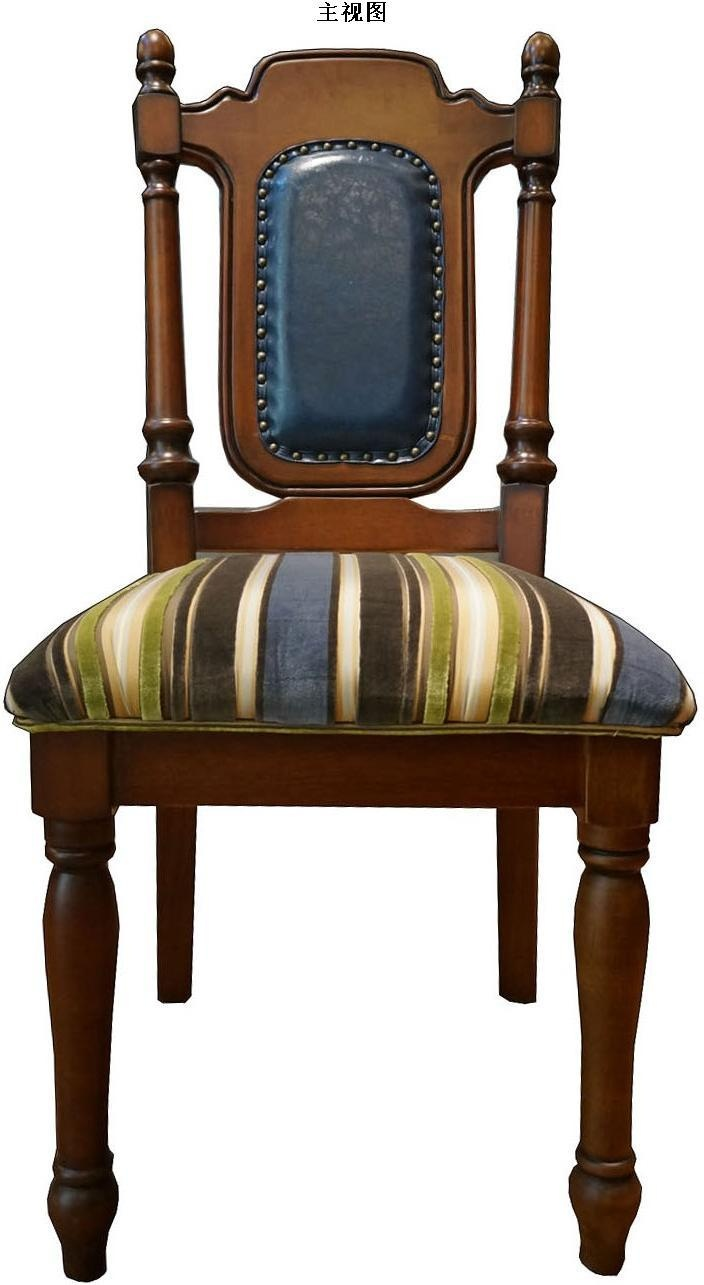obstacle: (7, 31, 691, 1279)
